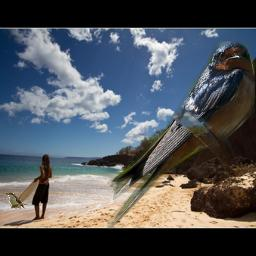Cuckoo: (5, 191, 27, 209)
Swallow: (107, 41, 255, 229)
